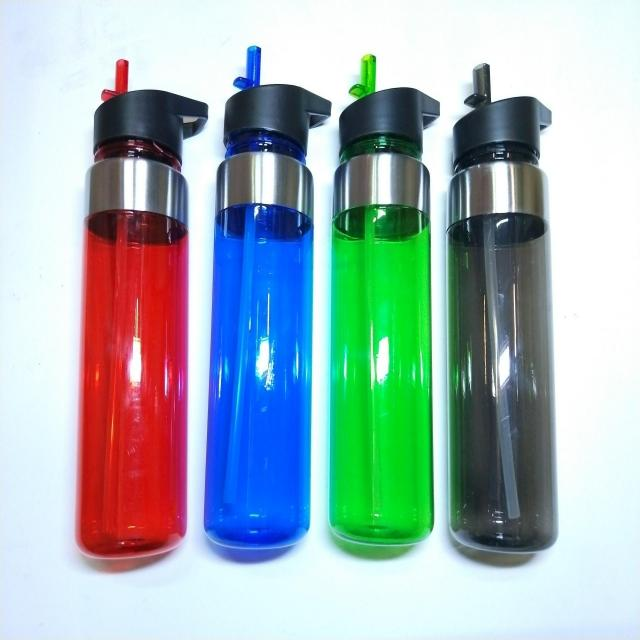plastic_bottle: (85, 56, 193, 562), (213, 46, 315, 553), (330, 57, 436, 543), (453, 63, 558, 553)
